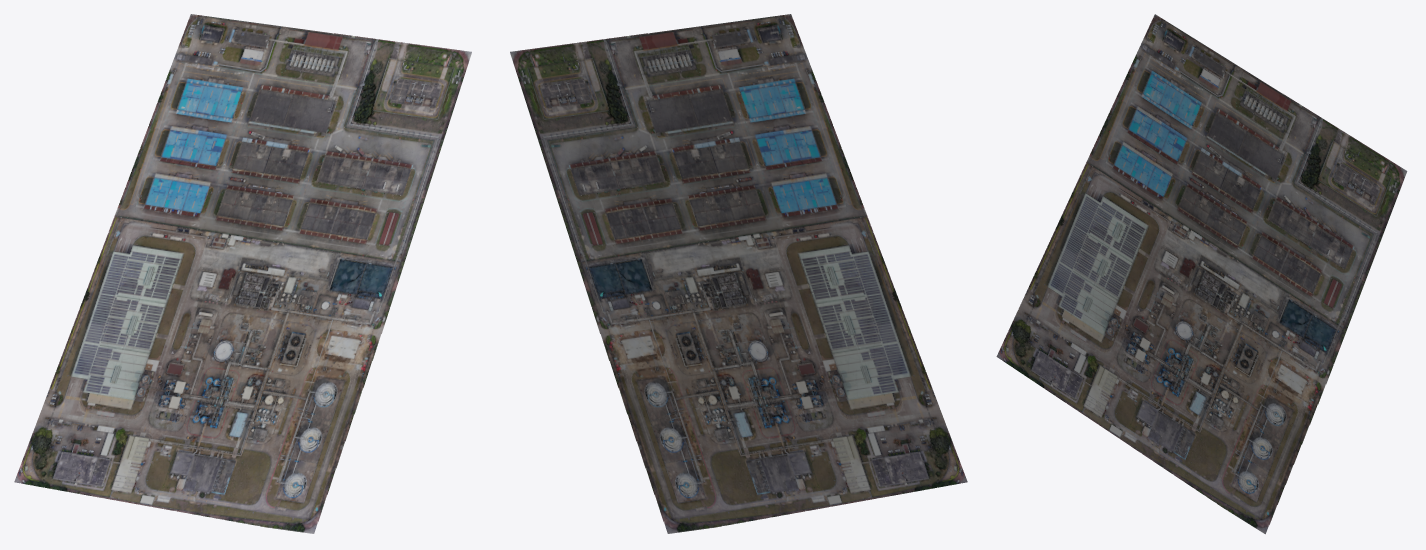
File: dixing_03.fbx
3 renders of one model, left to right at view 1: azimuth 30°, elevation 25°; view 2: azimuth 150°, elevation 25°; view 3: azimuth 330°, elevation 25°, orthographic. The views are drawn at different scales.
Parts seen in each view (by area): view 1: dixing_03; view 2: dixing_03; view 3: dixing_03.
Boxes of the visible parts, x1,y1,x2,y2 form: dixing_03: (14, 14, 471, 533); dixing_03: (510, 14, 967, 533); dixing_03: (996, 14, 1407, 534).
Bounding box in the file's own units: 46064 × 52512 × 0.00856.
Materials: 1 (1 with a texture image).
